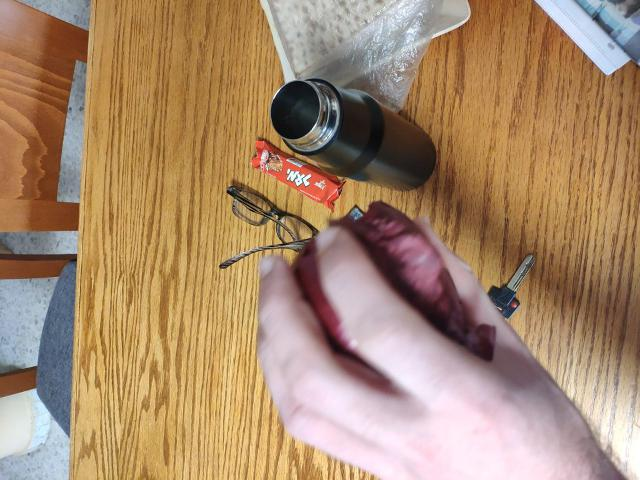onion: (294, 225, 446, 367)
